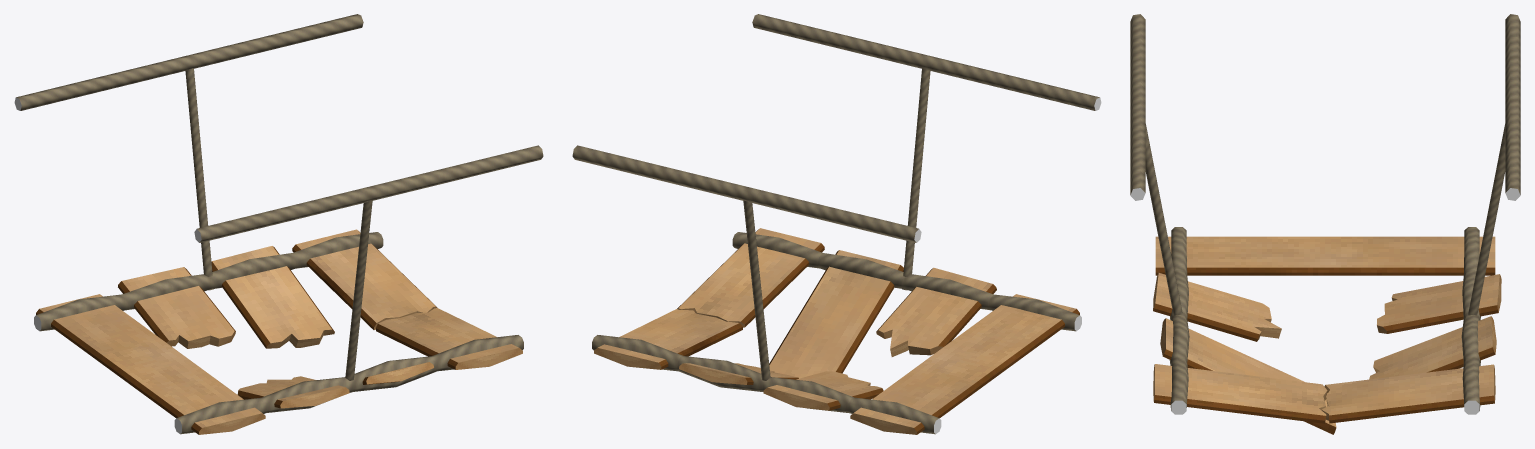
File: Prop_Bridge_Rope_Middle_Cracked_2_1x1.glb
The picture shows the model from 3 angles, left to right: view 1: azimuth 30°, elevation 25°; view 2: azimuth 150°, elevation 25°; view 3: azimuth 270°, elevation 25°; orthographic projection. The views are drawn at different scales.
Parts seen in each view (by area): view 1: Prop_Bridge_Rope_Middle_Cracked_2_1x1; view 2: Prop_Bridge_Rope_Middle_Cracked_2_1x1; view 3: Prop_Bridge_Rope_Middle_Cracked_2_1x1.
Part boxes in pixels (<box>): Prop_Bridge_Rope_Middle_Cracked_2_1x1: <box>14,14,543,434</box>; Prop_Bridge_Rope_Middle_Cracked_2_1x1: <box>572,14,1101,434</box>; Prop_Bridge_Rope_Middle_Cracked_2_1x1: <box>1130,14,1520,434</box>.
Size of the model in its own units: 1 by 0.7968 by 0.9484.
5 materials, 4 textured.
